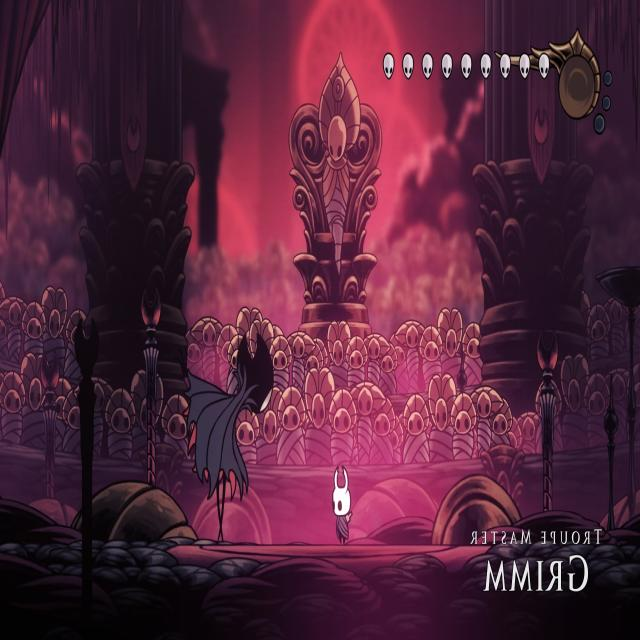Grimm: (178, 308, 276, 552)
Player: (330, 462, 356, 543)
